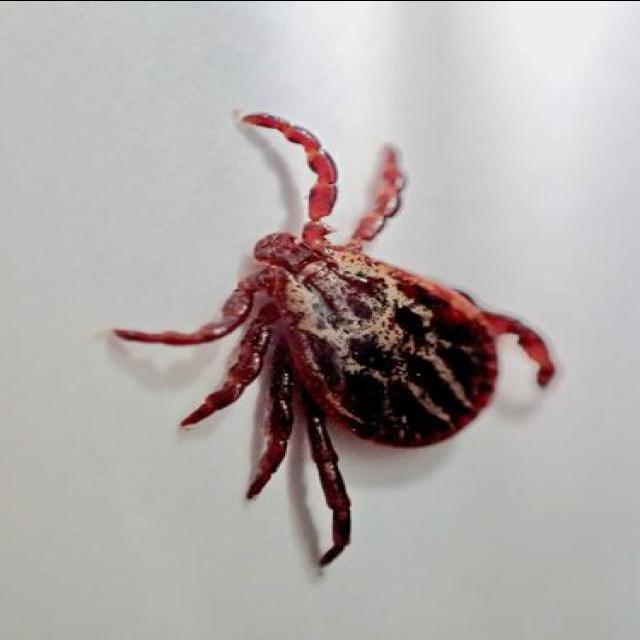Dermacentor Reticulatus-M: (111, 110, 556, 563)
